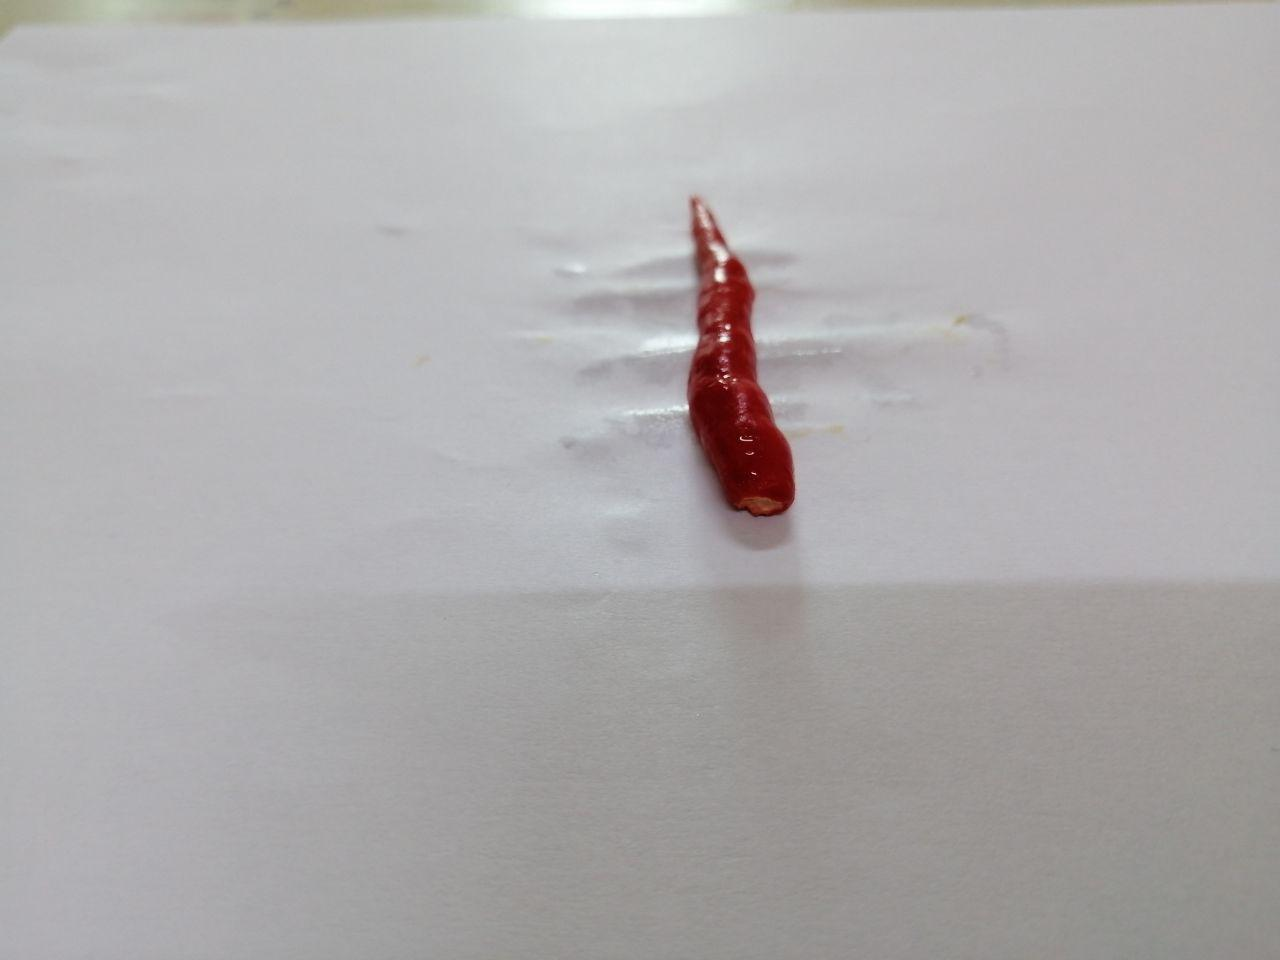lada merah: (655, 183, 818, 531)
